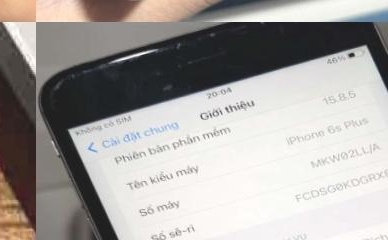scratch: (36, 22, 387, 115)
